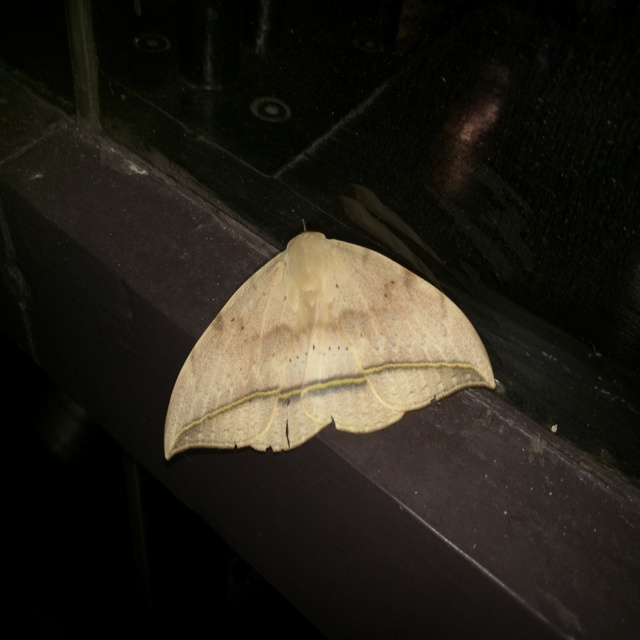Moths and butterflies: (164, 222, 497, 462)
